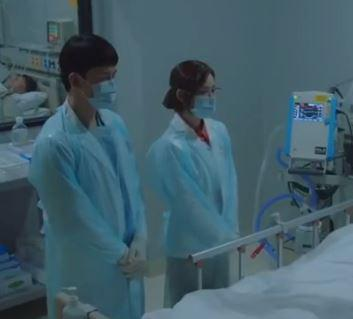OK: (88, 67, 119, 111), (191, 81, 218, 119)
